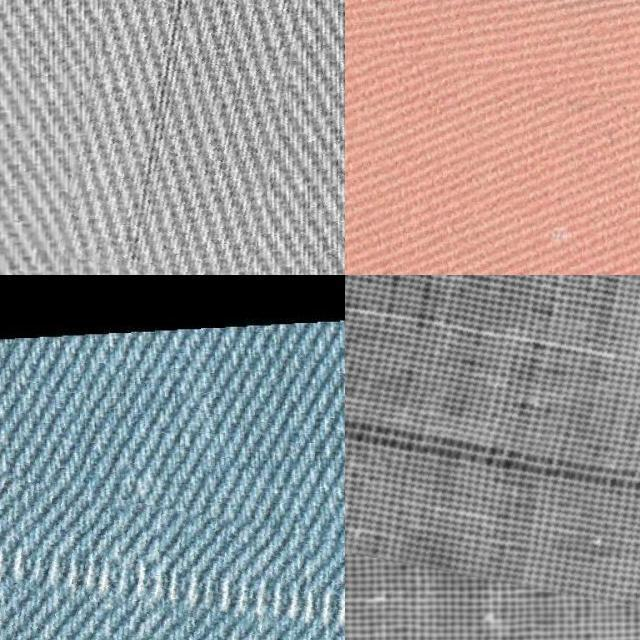Thread_other: (345, 275, 640, 601), (84, 0, 335, 275), (0, 499, 345, 640), (345, 0, 640, 111)
